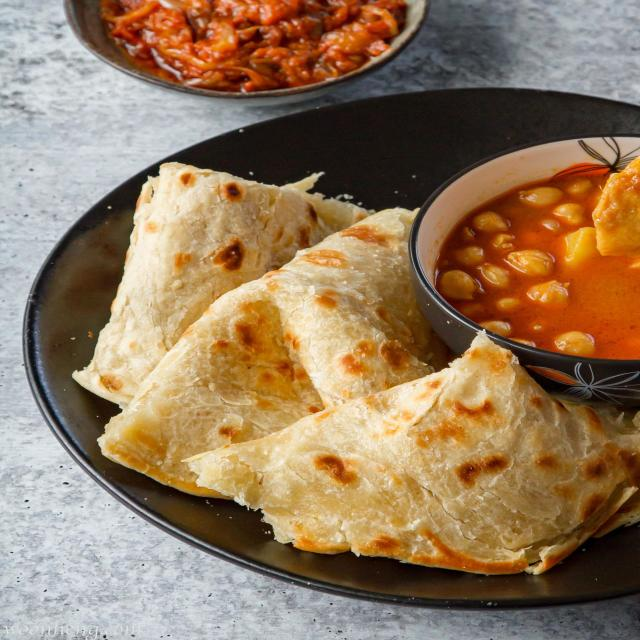BAJI: (446, 165, 637, 349), (90, 0, 406, 89)
ROTI: (86, 169, 640, 572)
